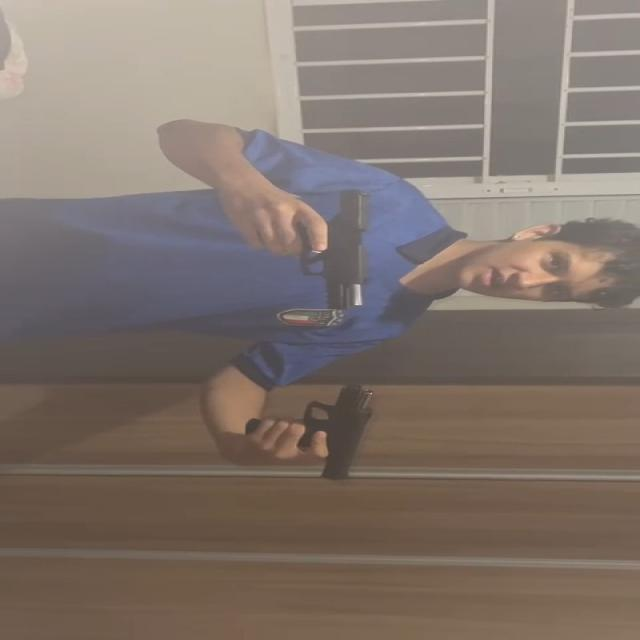gun: (295, 184, 377, 315), (296, 376, 382, 483)
